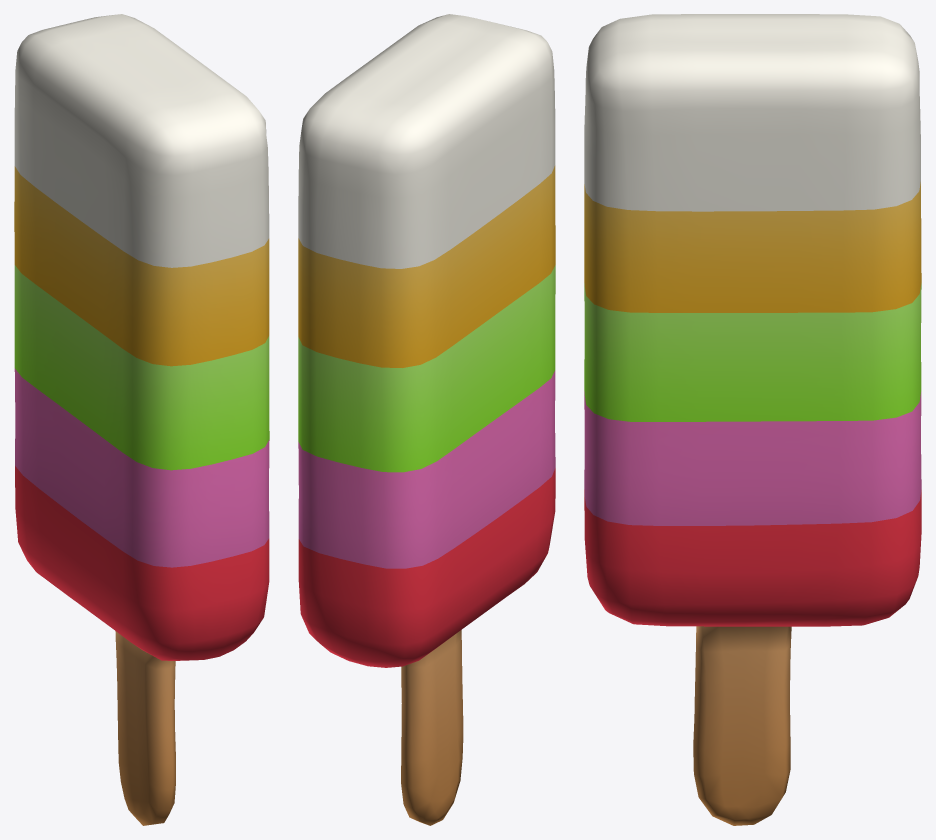
The model's file is IceCream_0001_0029.fbx.
3 views of the same model, side by side, from view 1: azimuth 30°, elevation 25°; view 2: azimuth 150°, elevation 25°; view 3: azimuth 270°, elevation 25° (orthographic). The views are drawn at different scales.
Visible parts, largest first — view 1: Ice_0001_0029; view 2: Ice_0001_0029; view 3: Ice_0001_0029.
Boxes of the visible parts, x1,y1,x2,y2 form: Ice_0001_0029: (14, 14, 269, 825); Ice_0001_0029: (298, 14, 555, 825); Ice_0001_0029: (584, 14, 921, 825).
Size of the model in its own units: 0.0256 by 0.14 by 0.0543.
Materials: 1 (1 with a texture image).
